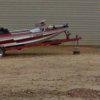Boat: (2, 21, 71, 61)
